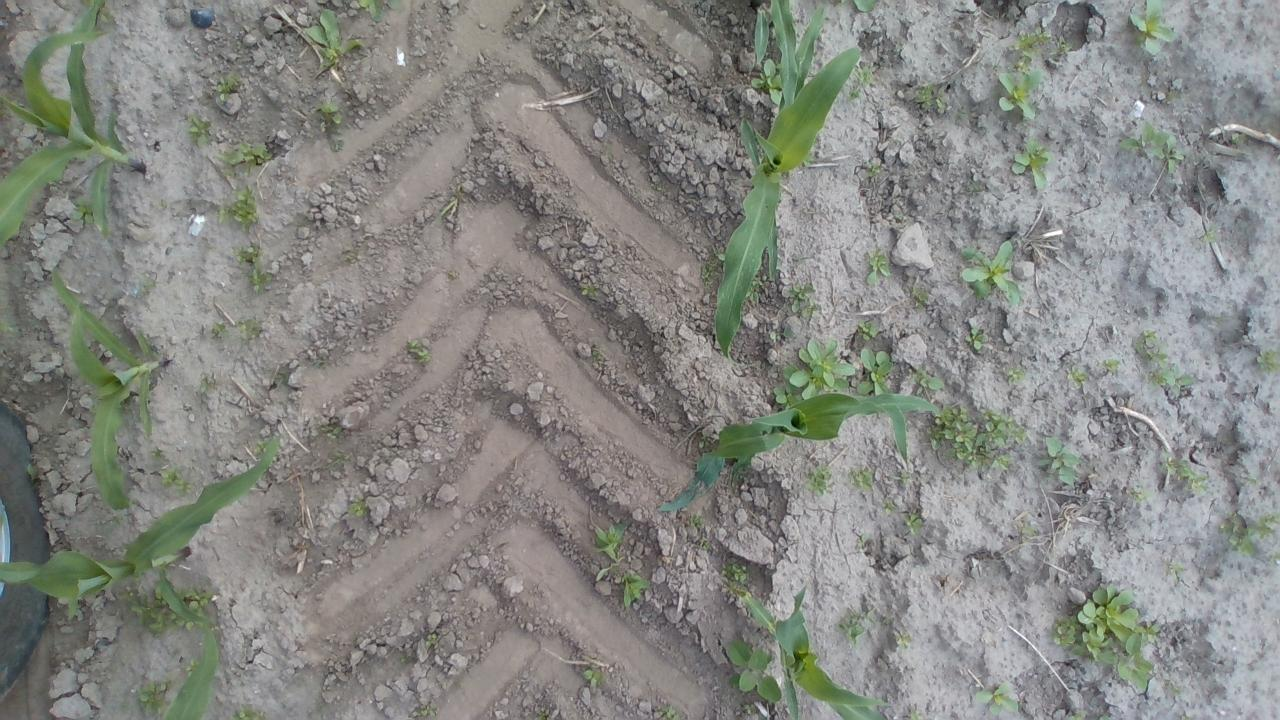Maize: (1, 435, 284, 718), (714, 0, 866, 356), (2, 1, 148, 263), (48, 259, 170, 513), (746, 583, 896, 720), (702, 389, 934, 469)
Weeds: (1056, 580, 1160, 698), (931, 391, 1032, 482), (790, 337, 896, 397), (596, 521, 654, 610), (960, 237, 1021, 316), (302, 8, 369, 76), (1135, 334, 1199, 402), (720, 638, 784, 706), (1221, 511, 1280, 578), (1119, 118, 1181, 177), (1004, 25, 1074, 74), (1122, 0, 1178, 60), (998, 62, 1050, 124), (1158, 455, 1212, 504), (1064, 351, 1126, 393), (964, 670, 1025, 712), (1010, 136, 1054, 190), (1048, 436, 1092, 490), (232, 241, 277, 288), (782, 278, 830, 316), (224, 188, 264, 231), (206, 71, 247, 112), (223, 136, 274, 168), (316, 102, 346, 156), (130, 597, 182, 628), (750, 61, 786, 105), (880, 606, 914, 650), (153, 462, 195, 496), (914, 364, 946, 405), (852, 318, 898, 346), (182, 114, 215, 150), (864, 256, 900, 289), (960, 325, 989, 365), (916, 84, 950, 118), (802, 467, 836, 500), (130, 682, 162, 716), (360, 0, 403, 25), (181, 586, 219, 614), (851, 66, 876, 108), (721, 556, 753, 588), (192, 369, 224, 400), (1250, 345, 1280, 378), (840, 612, 869, 646), (404, 335, 434, 364), (1162, 557, 1190, 585), (578, 665, 608, 691), (347, 495, 372, 526), (236, 315, 268, 338), (203, 316, 229, 344), (848, 471, 878, 495), (322, 422, 349, 447), (1008, 359, 1030, 387), (579, 278, 601, 304), (653, 703, 686, 720), (854, 530, 874, 556), (894, 470, 922, 488), (861, 160, 884, 181), (881, 498, 900, 522), (911, 514, 929, 538), (688, 514, 708, 534), (698, 536, 712, 556), (427, 632, 442, 650), (419, 702, 438, 716)
